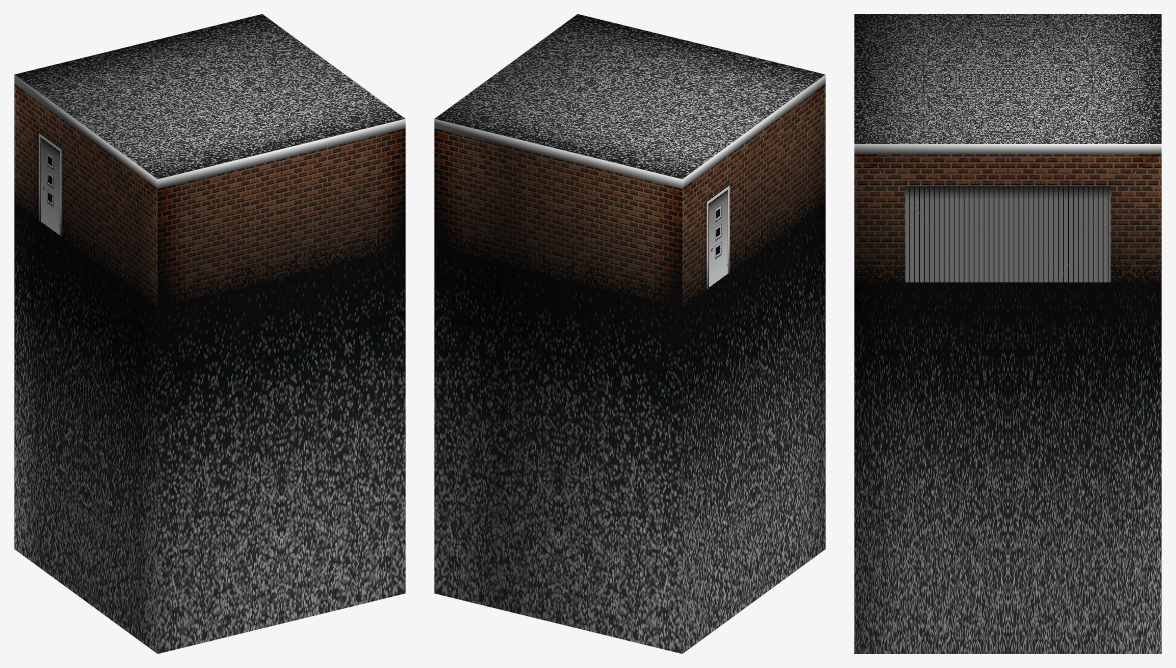
The model's file is schuur_mod3_1a.fbx.
3 renders of one model, left to right at view 1: azimuth 30°, elevation 25°; view 2: azimuth 150°, elevation 25°; view 3: azimuth 270°, elevation 25°, orthographic. The views are drawn at different scales.
Parts seen in each view (by area): view 1: schuur_mod3_1a; view 2: schuur_mod3_1a; view 3: schuur_mod3_1a.
Boxes of the visible parts, x1=… form: schuur_mod3_1a: x1=14, y1=14, x2=405, y2=653; schuur_mod3_1a: x1=434, y1=14, x2=825, y2=653; schuur_mod3_1a: x1=854, y1=14, x2=1161, y2=653.
Bounding box in the file's own units: 675 × 1235 × 675.
